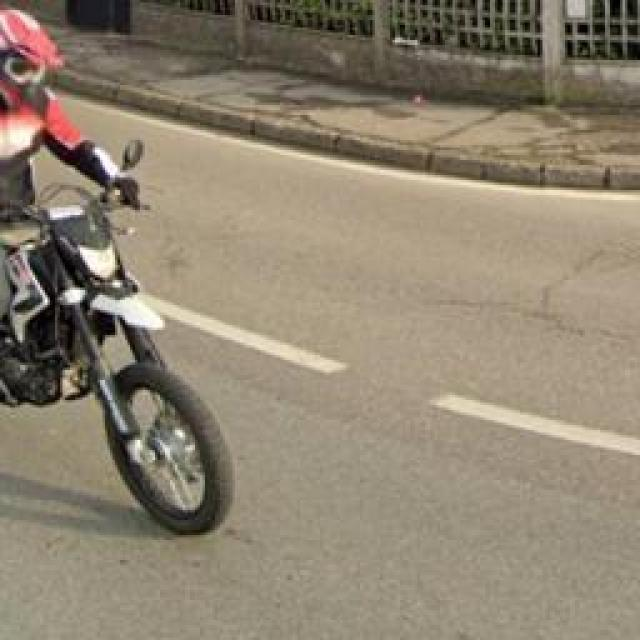motorbike: (0, 18, 240, 547)
